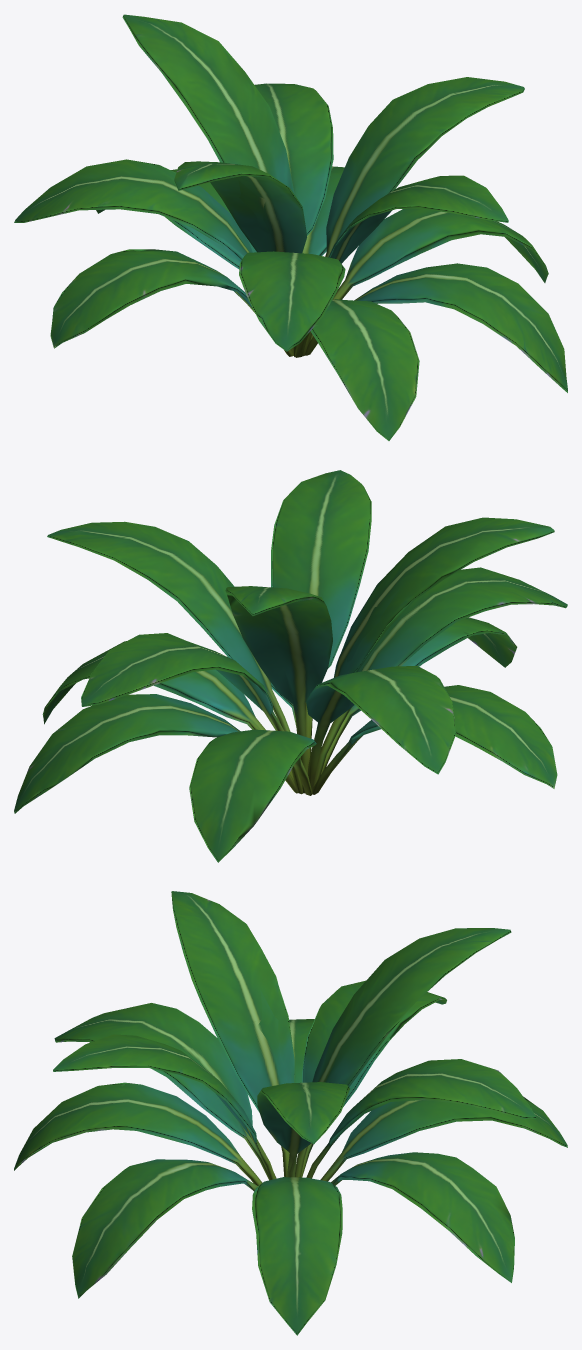
File: fern_raw.glb
3 views of the same model, one above another, from view 1: azimuth 30°, elevation 25°; view 2: azimuth 150°, elevation 25°; view 3: azimuth 270°, elevation 25° (orthographic). The views are drawn at different scales.
Parts seen in each view (by area): view 1: geometry_0; view 2: geometry_0; view 3: geometry_0.
Part boxes in pixels (<box>): geometry_0: <box>14,14,567,440</box>; geometry_0: <box>14,470,567,862</box>; geometry_0: <box>14,891,567,1335</box>.
Size of the model in its own units: 1 by 0.529 by 1.
1 material, 1 textured.
